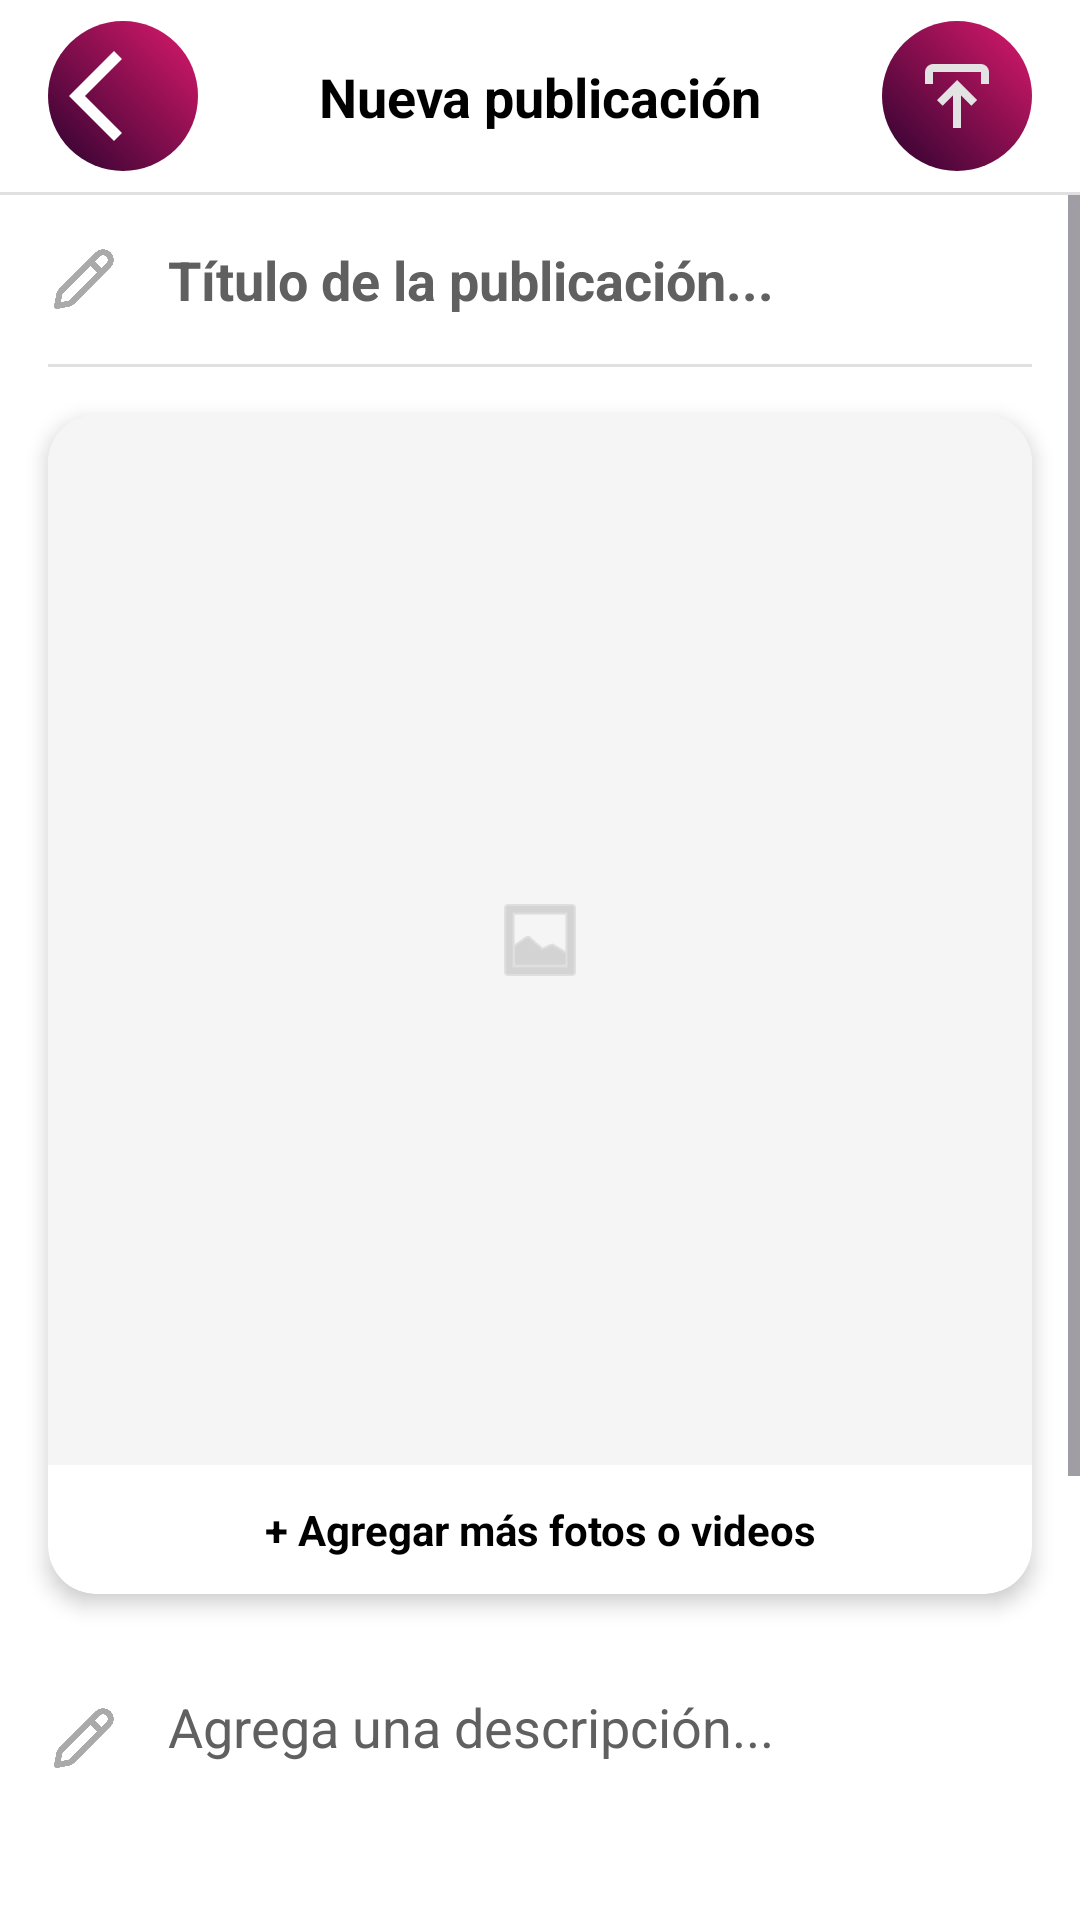

Where icons sit on this 1080x1920 app screen, as (x1, y1, x2, y2):
Icono de edición: (54, 1708, 114, 1768)
